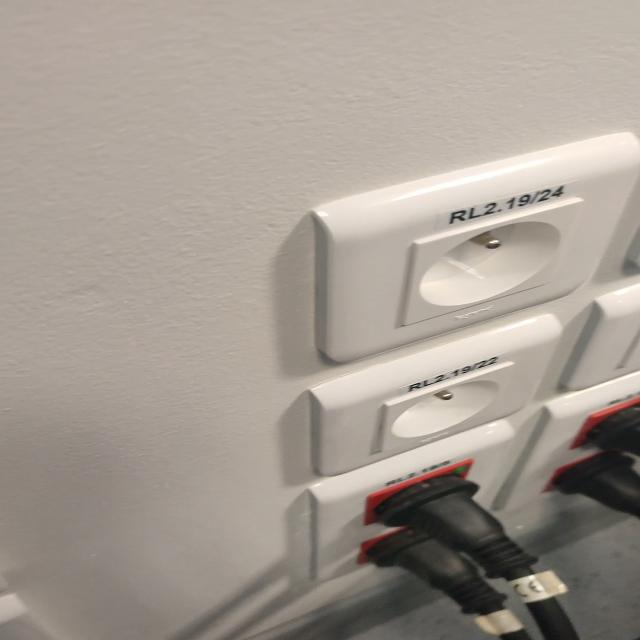house plug: (403, 197, 576, 326), (381, 363, 512, 454)
